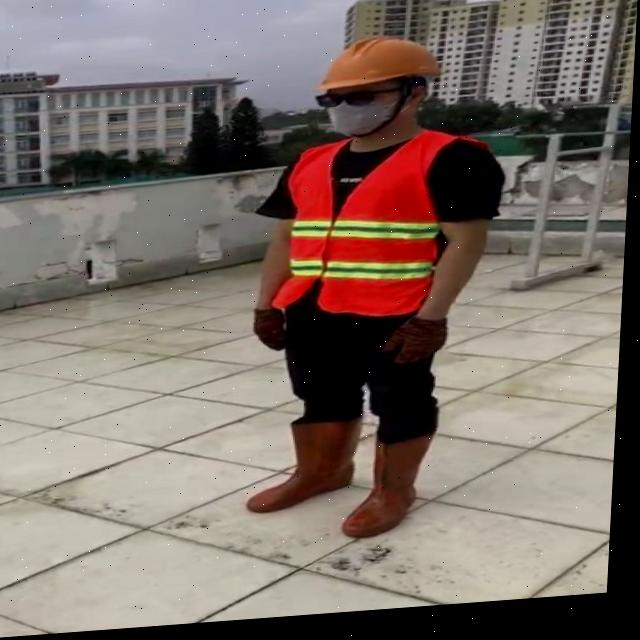Gloves: (384, 318, 452, 372), (255, 310, 292, 356)
Helmet: (311, 38, 455, 105)
Safety-Boot: (251, 417, 366, 518), (347, 431, 439, 545)
Safety-Vest: (261, 130, 503, 331)
